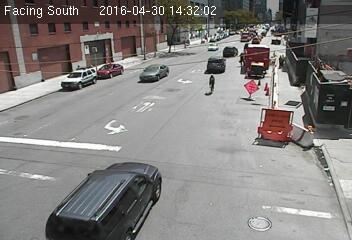neg: (201, 68, 223, 98)
pos: (272, 51, 289, 73)
